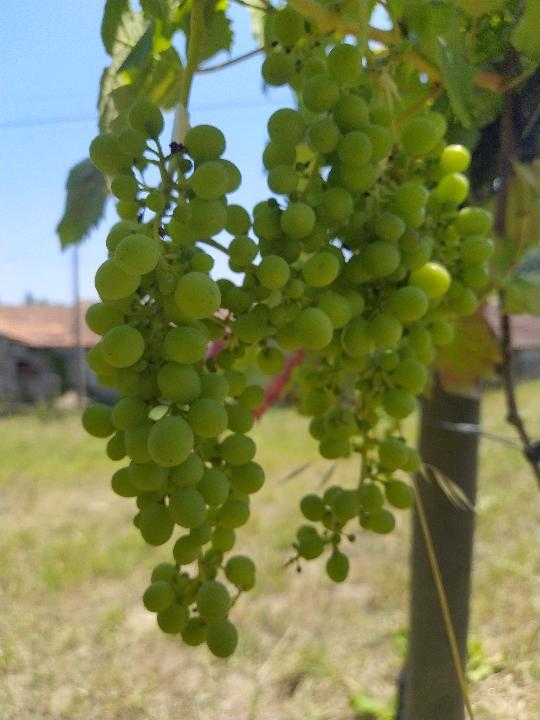grape: (254, 8, 497, 581), (81, 98, 266, 665)
